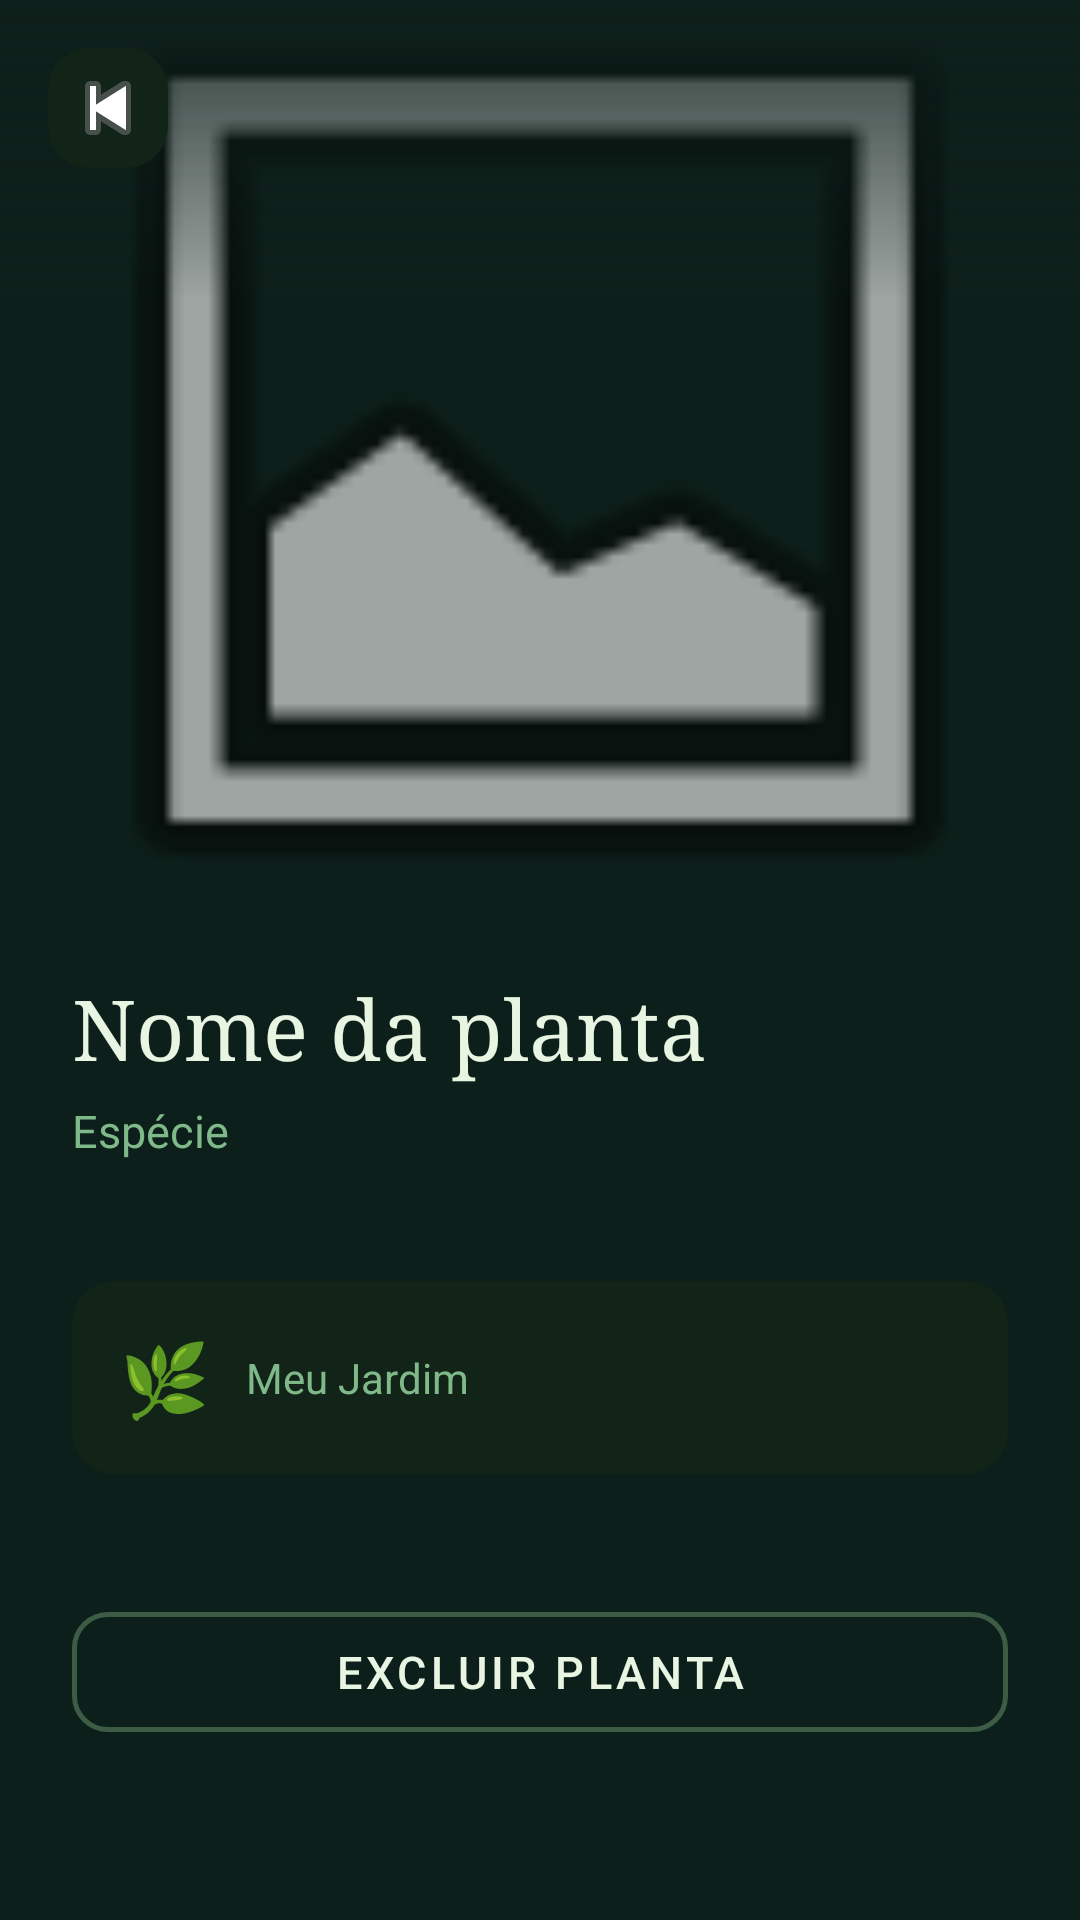

Screen size 1080 x 1920. Icon name, then its center in pixels as (x,y):
Voltar: (108,108)
